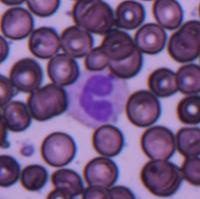N: (66, 70, 128, 127)
